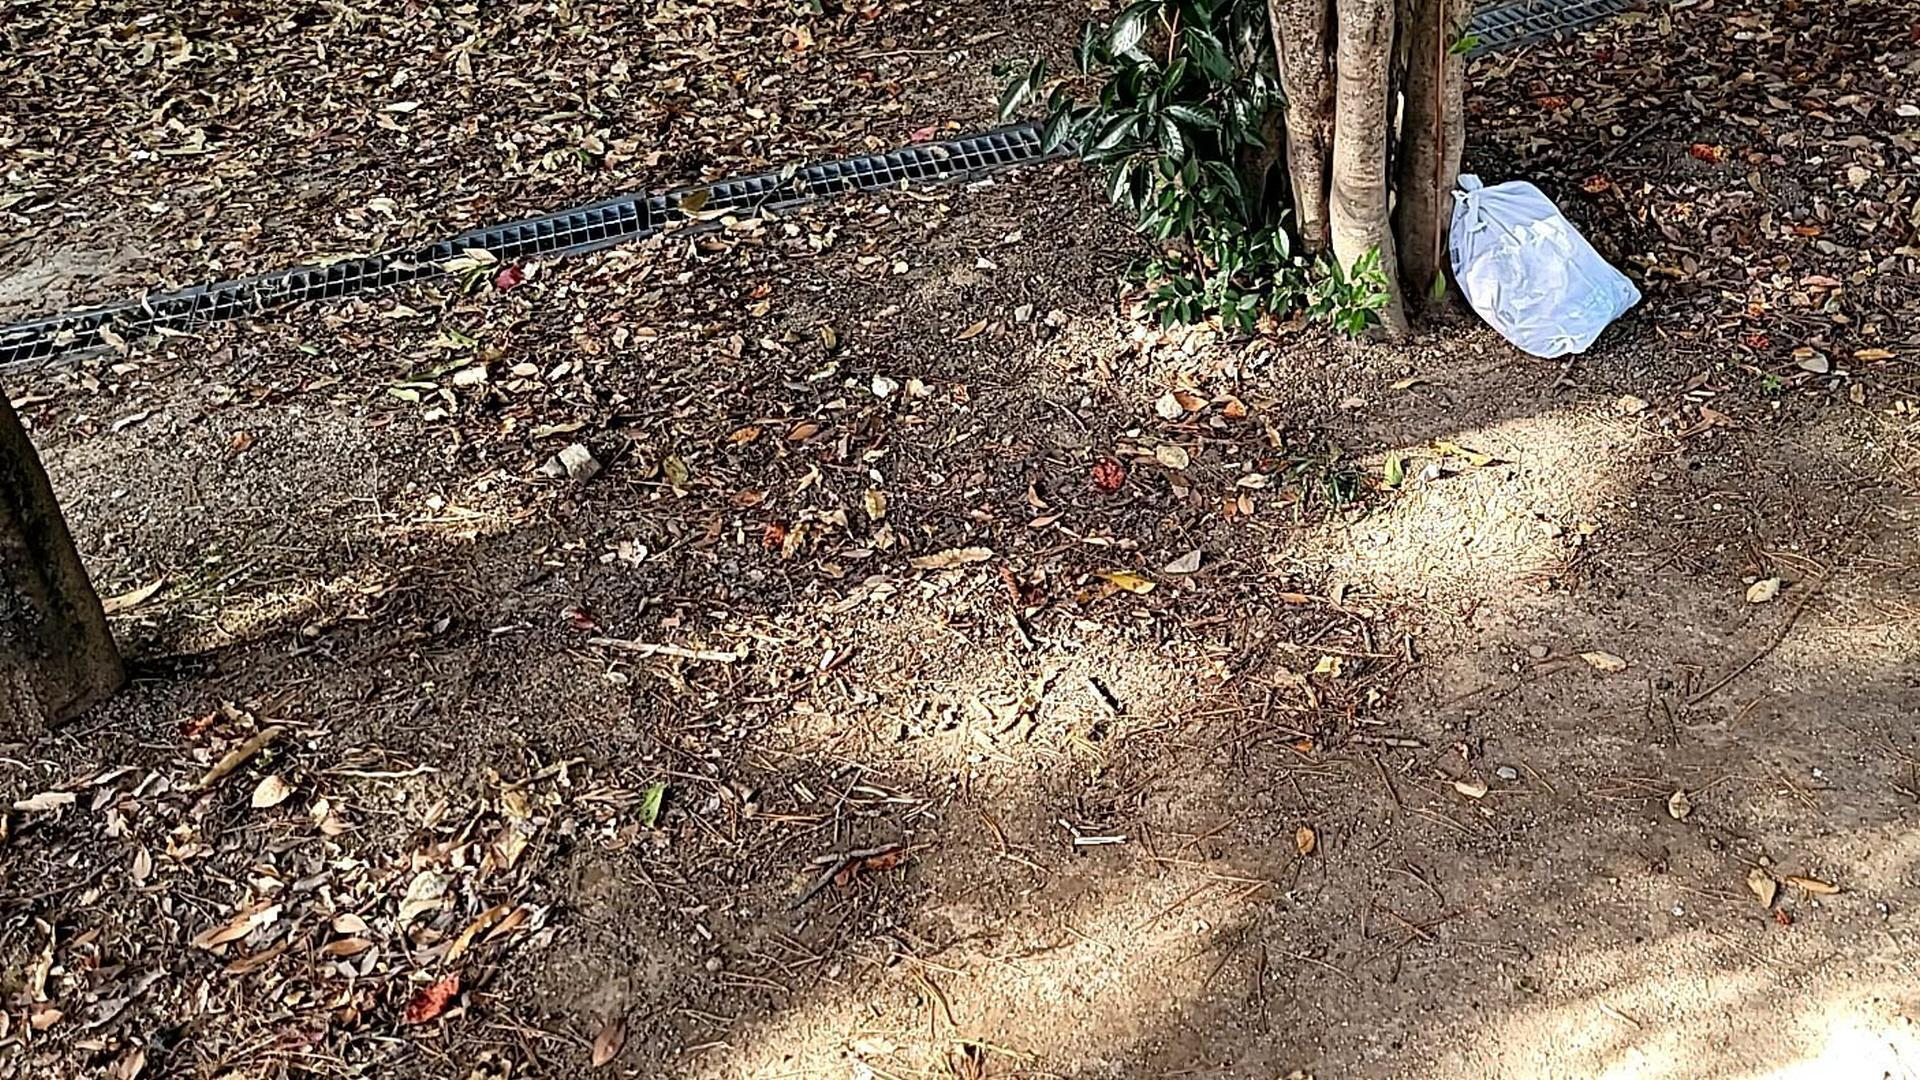white_bag: (1433, 162, 1654, 373)
